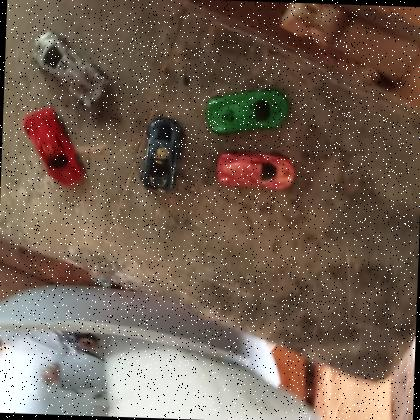Car: (25, 27, 114, 107), (20, 106, 92, 188), (204, 84, 293, 141), (214, 149, 298, 194), (140, 115, 184, 196)
